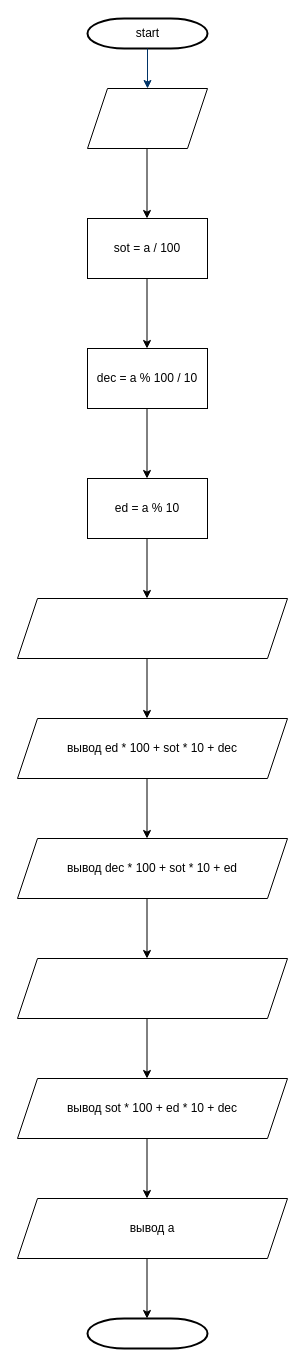
This 305x1366 diagram has some shape labels left out. The shapes that lost their labels are listed below. From the top down, each one's centre as x and y in pixels, then its label:
At pixel 147 118: "ввод a".
At pixel 152 628: "вывод ed * 100 + dec * 10 + sot".
At pixel 152 988: "вывод dec * 100 + ed * 10 + sot".
At pixel 147 1333: "end".
